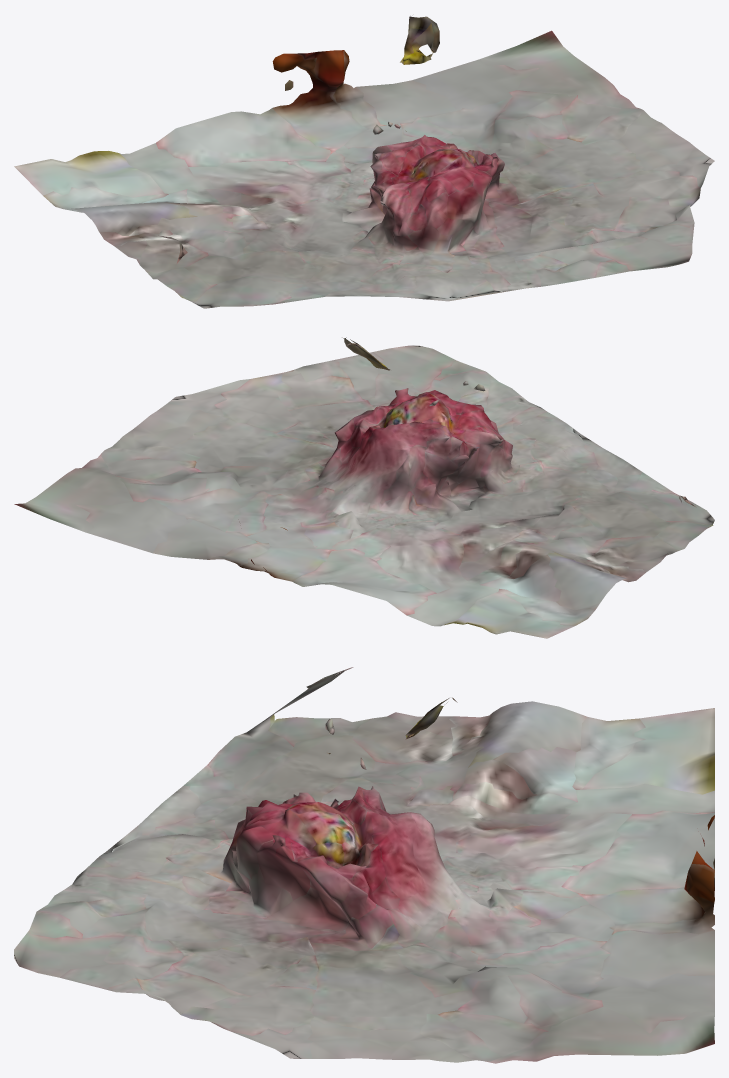
The model's file is hall.glb.
The picture shows the model from 3 angles, top to bottom: view 1: azimuth 30°, elevation 25°; view 2: azimuth 150°, elevation 25°; view 3: azimuth 270°, elevation 25°; orthographic projection. The views are drawn at different scales.
Bounding box in the file's own units: 3.32 × 0.9968 × 2.88.
Materials: 1 (1 with a texture image).
